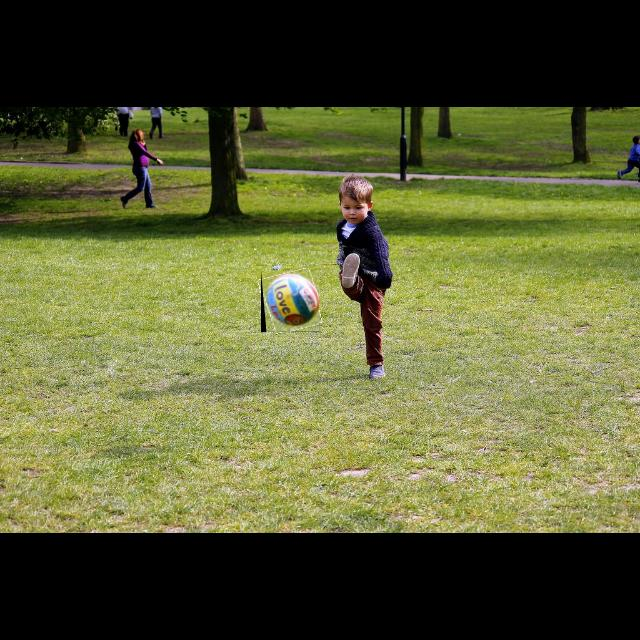Football: (261, 270, 319, 332)
